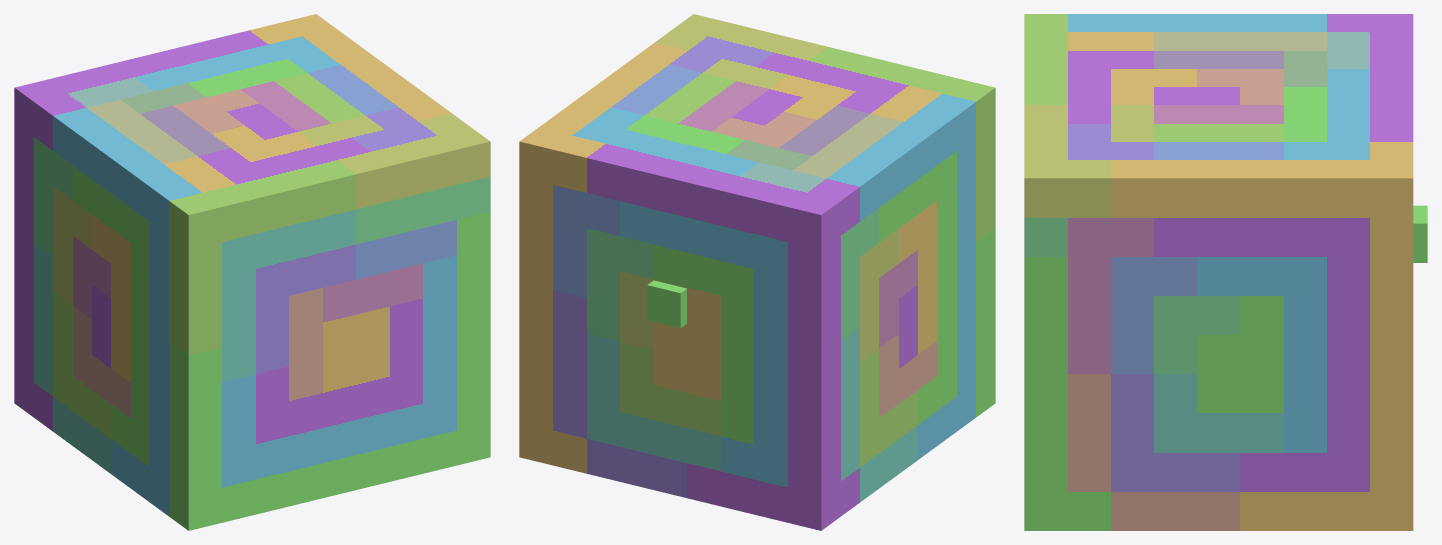
File: skin_26.fbx
3 renders of one model, left to right at view 1: azimuth 30°, elevation 25°; view 2: azimuth 150°, elevation 25°; view 3: azimuth 270°, elevation 25°, orthographic. The views are drawn at different scales.
Parts seen in each view (by area): view 1: skin_26-5; view 2: skin_26-5, skin_26-0; view 3: skin_26-5, skin_26-0.
Part boxes in pixels (left/top/right/bottom): skin_26-5: left=14, top=14, right=490, bottom=530; skin_26-5: left=519, top=14, right=995, bottom=530; skin_26-0: left=647, top=280, right=686, bottom=328; skin_26-5: left=1024, top=14, right=1413, bottom=530; skin_26-0: left=1413, top=205, right=1427, bottom=262.
Size of the model in its own units: 90 by 90 by 93.33.
1 material, 1 textured.
